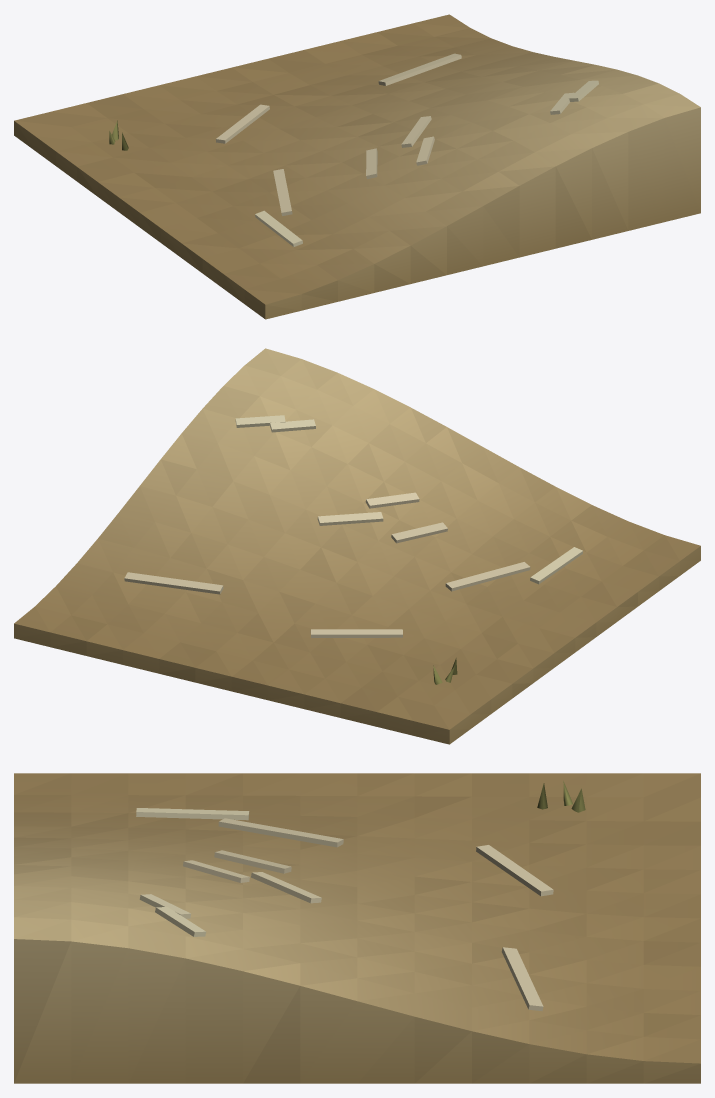
The model's file is dune-slope-corner-tile.glb.
3 views of the same model, one above another, from view 1: azimuth 30°, elevation 25°; view 2: azimuth 150°, elevation 25°; view 3: azimuth 270°, elevation 25° (orthographic). The views are drawn at different scales.
Parts seen in each view (by area): view 1: dune_slope_corner_tile; view 2: dune_slope_corner_tile; view 3: dune_slope_corner_tile.
Boxes of the visible parts, x1,y1,x2,y2 form: dune_slope_corner_tile: (14, 14, 700, 319); dune_slope_corner_tile: (14, 348, 700, 744); dune_slope_corner_tile: (14, 773, 700, 1083).
Size of the model in its own units: 4 by 0.93 by 4.
